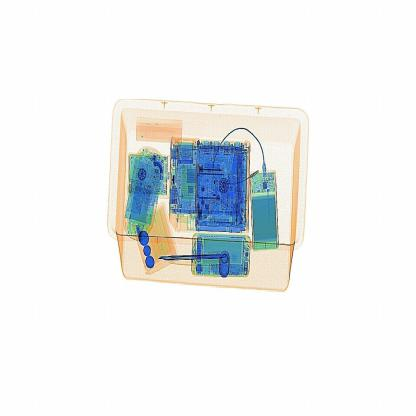pliers: (155, 248, 237, 269)
